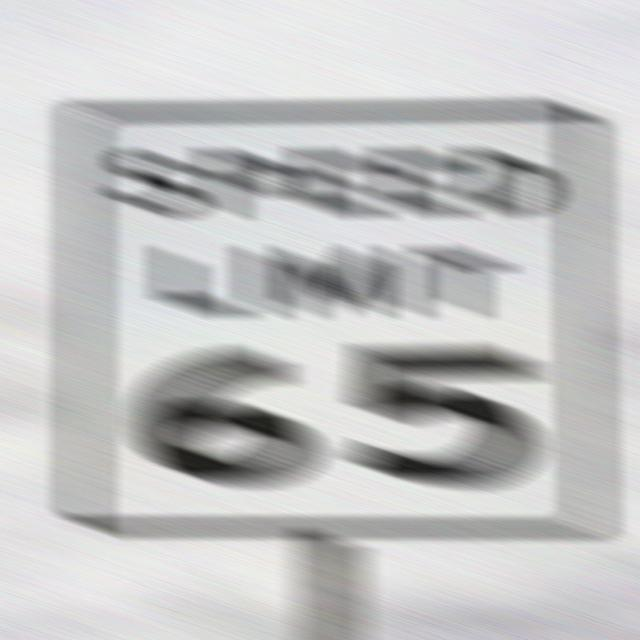speedLimit65: (58, 88, 608, 549)
